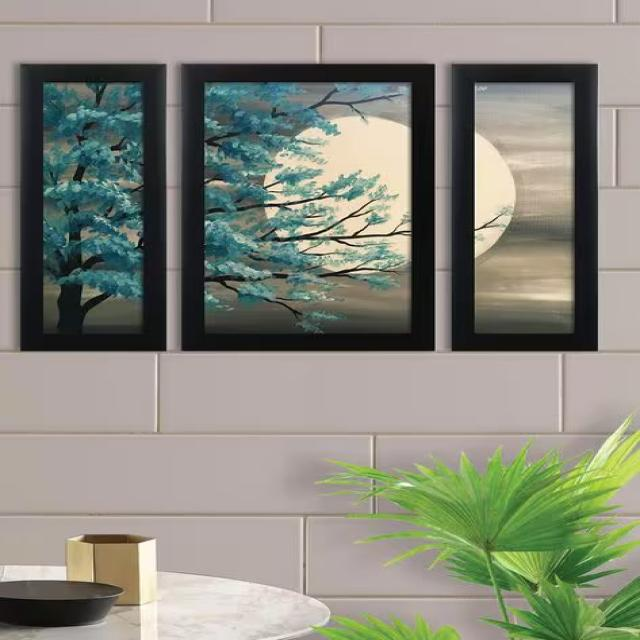painting: (182, 63, 434, 352), (22, 64, 167, 350), (451, 63, 596, 349)
